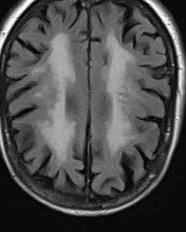Normal_Brain: (1, 1, 186, 226)
